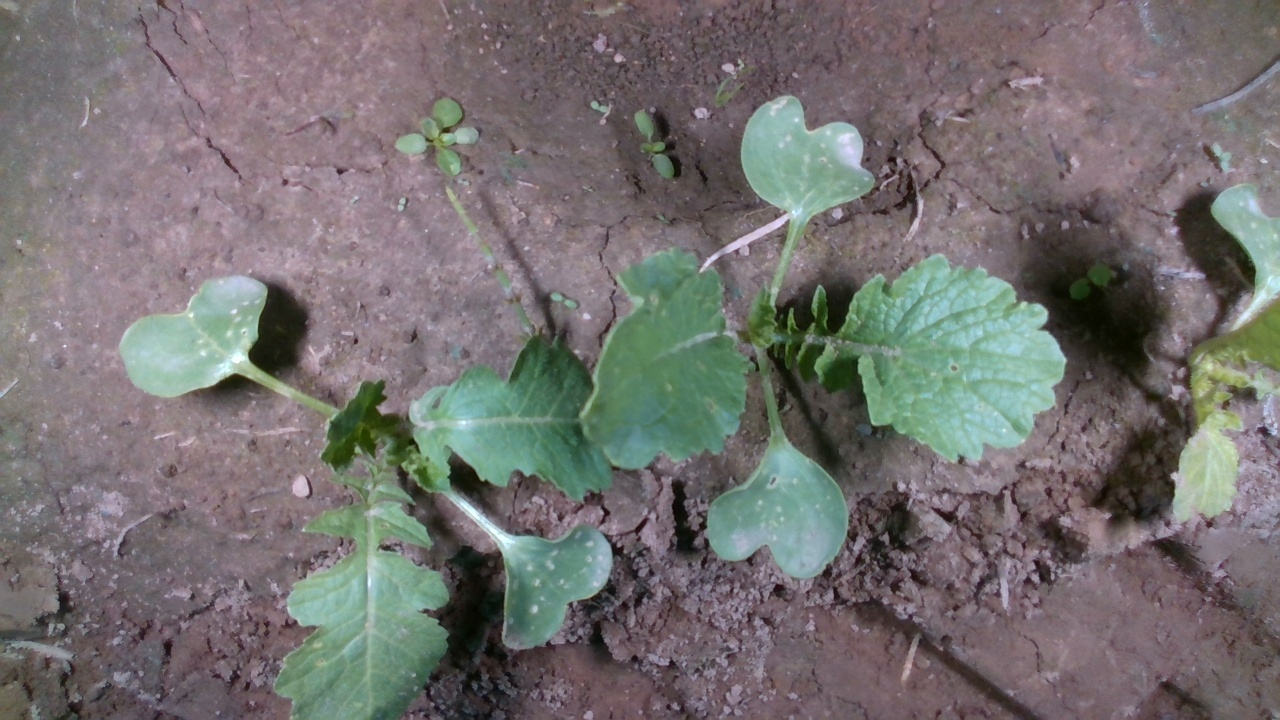weed: (395, 94, 481, 177), (633, 108, 675, 183), (1067, 261, 1112, 303), (590, 99, 612, 115)
